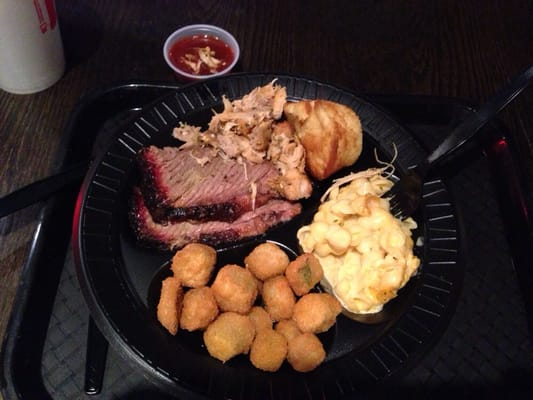sushi: (163, 24, 241, 82)
